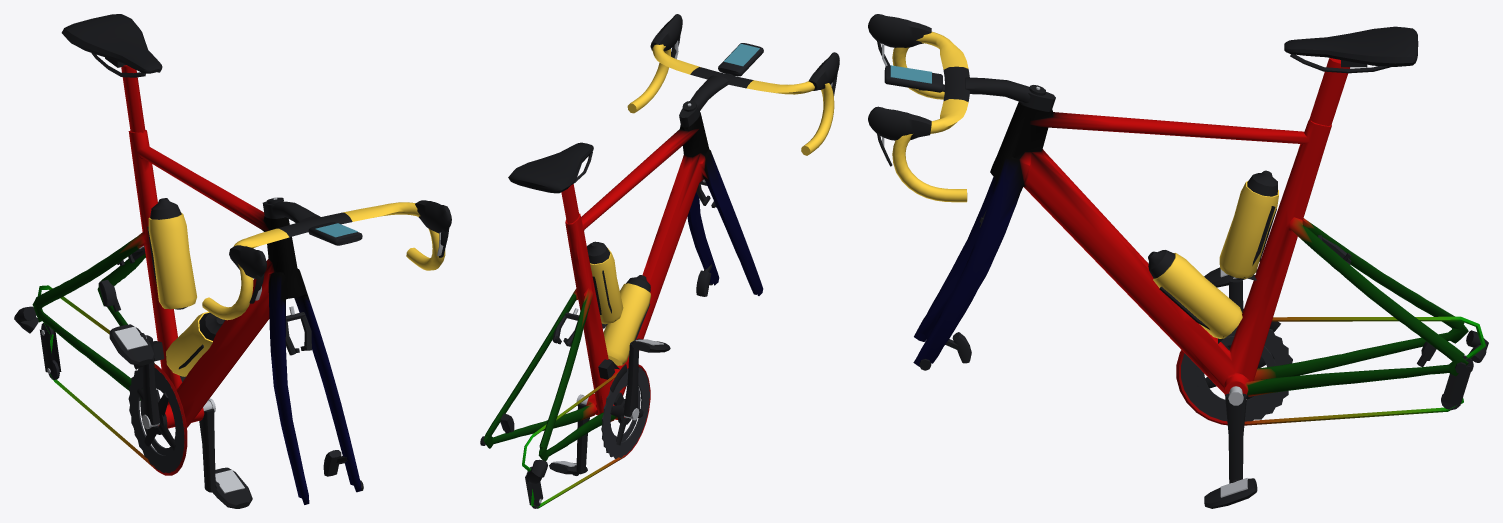
File: aero.glb
3 views of the same model, side by side, from view 1: azimuth 30°, elevation 25°; view 2: azimuth 150°, elevation 25°; view 3: azimuth 270°, elevation 25° (orthographic). The views are drawn at different scales.
Parts seen in each view (by area): view 1: frame, cockpit, opt_bottles, crankset, saddle, opt_derailleur, pedal_R, pedal_L, opt_brakes_disc, opt_brakes_rim; view 2: frame, cockpit, opt_bottles, crankset, saddle, opt_derailleur, opt_brakes_disc, opt_brakes_rim, pedal_R; view 3: frame, cockpit, opt_bottles, crankset, saddle, opt_derailleur, pedal_L, opt_brakes_disc.
Boxes of the visible parts, x1,y1,x2,y2 form: frame: [32, 65, 361, 504]; cockpit: [202, 197, 451, 320]; opt_bottles: [147, 198, 225, 382]; crankset: [128, 335, 215, 492]; saddle: [61, 14, 162, 77]; opt_derailleur: [14, 306, 164, 379]; pedal_R: [109, 324, 155, 365]; pedal_L: [212, 467, 252, 508]; opt_brakes_disc: [98, 279, 363, 490]; opt_brakes_rim: [117, 246, 311, 355]; frame: [483, 112, 763, 508]; cockpit: [627, 14, 839, 155]; opt_bottles: [587, 241, 650, 369]; crankset: [576, 340, 649, 474]; saddle: [508, 142, 593, 193]; opt_derailleur: [525, 359, 626, 508]; opt_brakes_disc: [480, 264, 712, 445]; opt_brakes_rim: [552, 179, 716, 346]; pedal_R: [631, 338, 670, 352]; frame: [913, 58, 1485, 425]; cockpit: [868, 14, 1055, 202]; opt_bottles: [1148, 170, 1278, 343]; crankset: [1181, 279, 1292, 483]; saddle: [1284, 26, 1418, 73]; opt_derailleur: [1242, 308, 1488, 410]; pedal_L: [1204, 478, 1257, 508]; opt_brakes_disc: [919, 332, 1467, 374].
Size of the model in its own units: 0.4654 by 0.8869 by 1.13.
